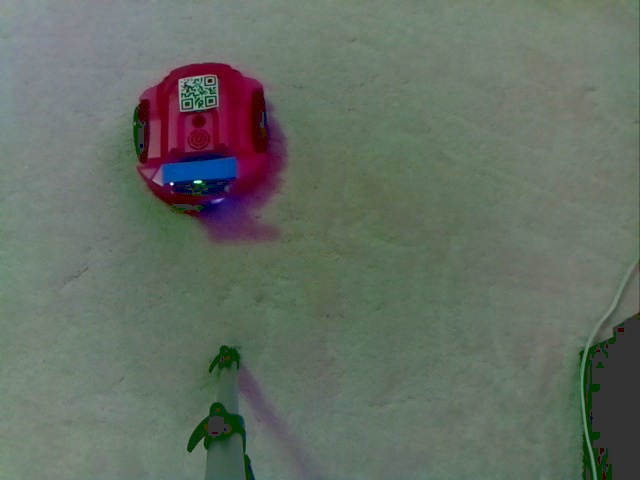board: (158, 147, 235, 196)
chassis: (132, 60, 271, 205)
